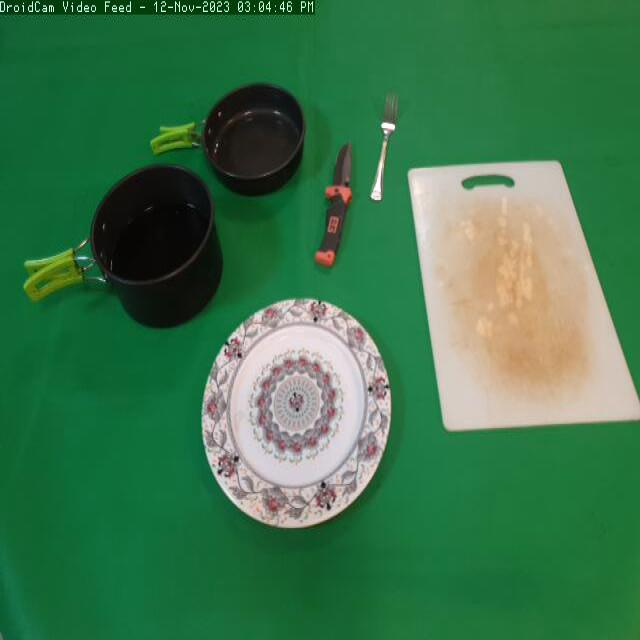cutting board: (401, 139, 640, 454)
fork: (363, 80, 406, 206)
fullpot: (21, 158, 228, 338)
knife: (313, 135, 365, 274)
pan: (153, 76, 317, 203)
plate: (196, 288, 398, 536)
